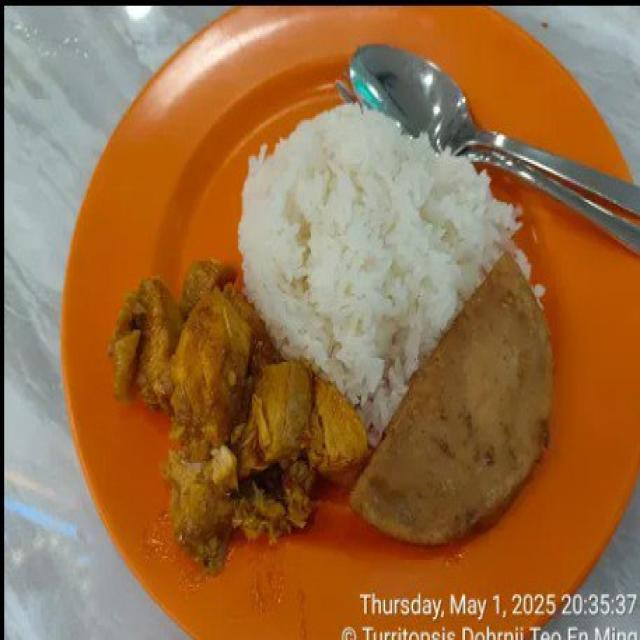Chicken: (111, 261, 367, 568)
Pork: (352, 257, 552, 543)
Rice: (238, 105, 528, 430)
